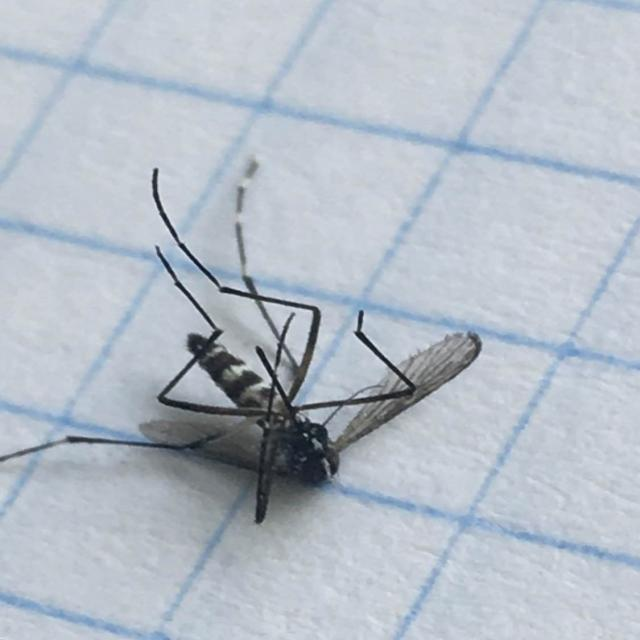albopictus: (36, 135, 485, 543)
